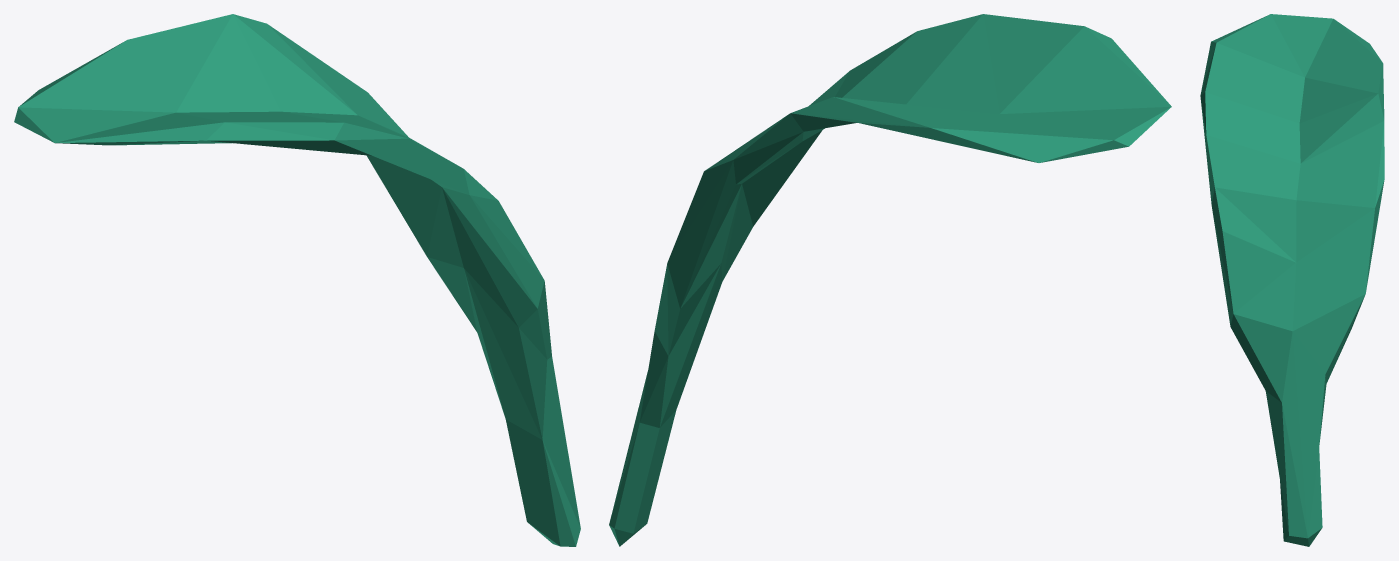
The model's file is SM_E_LargeLeaf_01.fbx.
3 views of the same model, side by side, from view 1: azimuth 30°, elevation 25°; view 2: azimuth 150°, elevation 25°; view 3: azimuth 270°, elevation 25° (orthographic). The views are drawn at different scales.
Visible parts, largest first — view 1: SM_E_LargeLeaf_01; view 2: SM_E_LargeLeaf_01; view 3: SM_E_LargeLeaf_01.
Part boxes in pixels (box(x1,y1,x2,y2)): SM_E_LargeLeaf_01: box(14, 14, 580, 546); SM_E_LargeLeaf_01: box(609, 14, 1171, 546); SM_E_LargeLeaf_01: box(1200, 14, 1384, 546).
Size of the model in its own units: 431 by 435 by 193.
